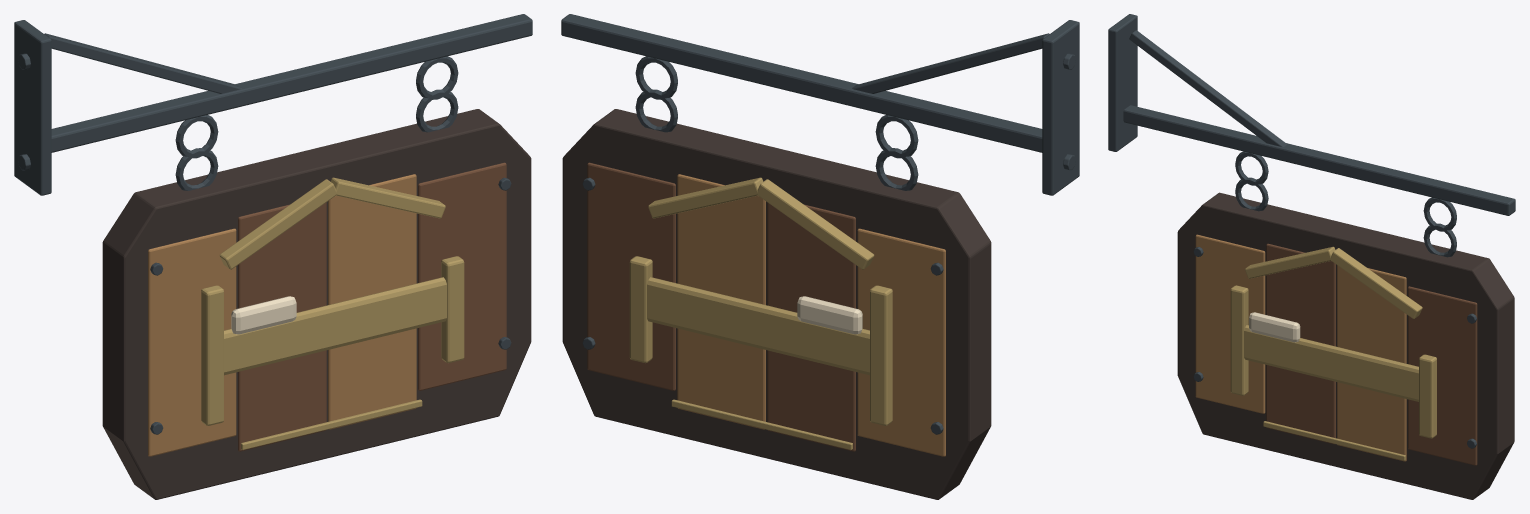
Rendered from inn_trade_sign.glb.
3 views of the same model, side by side, from view 1: azimuth 30°, elevation 25°; view 2: azimuth 150°, elevation 25°; view 3: azimuth 330°, elevation 25° (orthographic). The views are drawn at different scales.
Visible parts, largest first — view 1: Carved dark timber rim, Recessed sign board.002, Recessed sign board.003, Recessed sign board, Recessed sign board.001, Forged hanging arm, Bed mattress, Wall bracket plate, Bed post, Shelter roof, Bracket diagonal, Bed post.001 (+7 smaller); view 2: Carved dark timber rim, Recessed sign board.002, Recessed sign board.003, Recessed sign board, Recessed sign board.001, Forged hanging arm, Bed mattress.001, Wall bracket plate, Bed post.002, Shelter roof.002, Bracket diagonal, Bed post.003 (+7 smaller); view 3: Carved dark timber rim, Recessed sign board.003, Recessed sign board.002, Recessed sign board.001, Recessed sign board, Forged hanging arm, Bed mattress, Wall bracket plate, Bracket diagonal, Bed post, Shelter roof.001, Bed post.001 (+7 smaller).
Boxes of the visible parts, bbox=[...] form: Carved dark timber rim: bbox=[102, 109, 531, 499]; Recessed sign board.002: bbox=[328, 174, 416, 429]; Recessed sign board.003: bbox=[418, 162, 506, 390]; Recessed sign board: bbox=[148, 228, 236, 456]; Recessed sign board.001: bbox=[238, 202, 326, 451]; Forged hanging arm: bbox=[51, 14, 532, 152]; Bed mattress: bbox=[224, 277, 446, 375]; Wall bracket plate: bbox=[14, 20, 51, 195]; Bed post: bbox=[201, 285, 223, 425]; Shelter roof: bbox=[219, 179, 336, 269]; Bracket diagonal: bbox=[44, 33, 241, 93]; Bed post.001: bbox=[441, 256, 464, 362]; Carved dark timber rim: bbox=[562, 109, 991, 499]; Recessed sign board.002: bbox=[677, 174, 765, 429]; Recessed sign board.003: bbox=[587, 162, 675, 390]; Recessed sign board: bbox=[857, 228, 945, 456]; Recessed sign board.001: bbox=[767, 202, 855, 451]; Forged hanging arm: bbox=[561, 14, 1042, 152]; Bed mattress.001: bbox=[647, 277, 869, 375]; Wall bracket plate: bbox=[1042, 20, 1079, 195]; Bed post.002: bbox=[870, 285, 892, 425]; Shelter roof.002: bbox=[757, 179, 874, 269]; Bracket diagonal: bbox=[852, 33, 1049, 93]; Bed post.003: bbox=[629, 256, 652, 362]; Carved dark timber rim: bbox=[1177, 192, 1514, 499]; Recessed sign board.003: bbox=[1408, 286, 1477, 465]; Recessed sign board.002: bbox=[1337, 265, 1406, 461]; Recessed sign board.001: bbox=[1266, 243, 1335, 444]; Recessed sign board: bbox=[1195, 234, 1265, 413]; Forged hanging arm: bbox=[1123, 105, 1515, 215]; Bed mattress: bbox=[1244, 325, 1418, 401]; Wall bracket plate: bbox=[1108, 14, 1137, 151]; Bracket diagonal: bbox=[1129, 30, 1287, 146]; Bed post: bbox=[1230, 285, 1248, 395]; Shelter roof.001: bbox=[1331, 248, 1422, 318]; Bed post.001: bbox=[1419, 354, 1436, 438].
Bounding box in the file's own units: 1.27 × 1.17 × 0.192.
